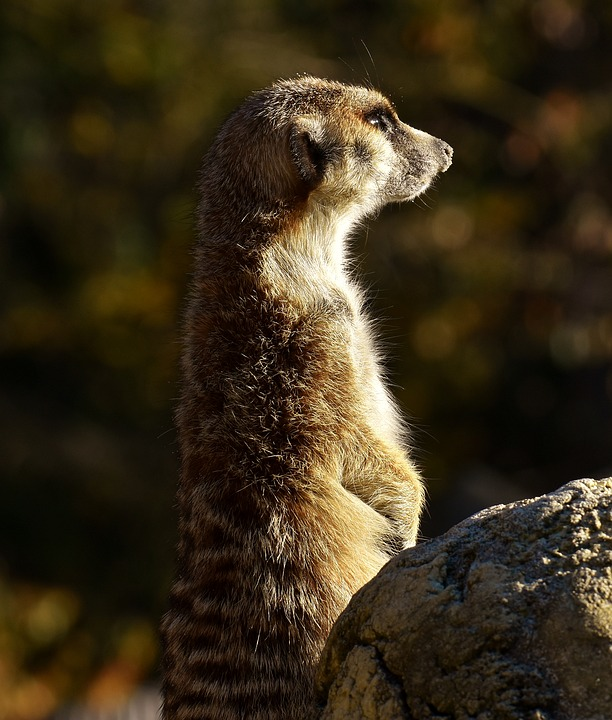meerkat: (154, 53, 456, 720)
